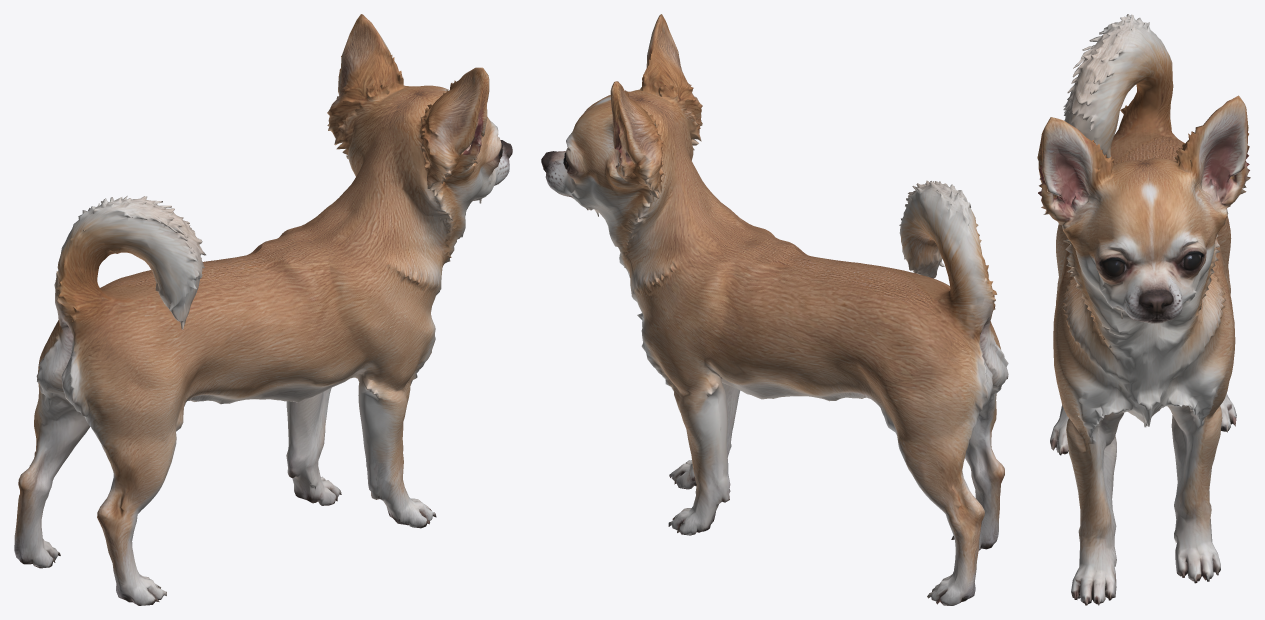
File: chihuahua.glb
3 renders of one model, left to right at view 1: azimuth 30°, elevation 25°; view 2: azimuth 150°, elevation 25°; view 3: azimuth 270°, elevation 25°, orthographic. The views are drawn at different scales.
Parts seen in each view (by area): view 1: tripo_node_60f453f3-51c9-48dd-a617-ba7e19e5b2ca; view 2: tripo_node_60f453f3-51c9-48dd-a617-ba7e19e5b2ca; view 3: tripo_node_60f453f3-51c9-48dd-a617-ba7e19e5b2ca.
Part boxes in pixels (bbox=[...]): tripo_node_60f453f3-51c9-48dd-a617-ba7e19e5b2ca: bbox=[14, 14, 512, 605]; tripo_node_60f453f3-51c9-48dd-a617-ba7e19e5b2ca: bbox=[541, 14, 1008, 605]; tripo_node_60f453f3-51c9-48dd-a617-ba7e19e5b2ca: bbox=[1037, 14, 1250, 605].
Size of the model in its own units: 1 by 0.9286 by 0.3513.
1 material, 1 textured.
